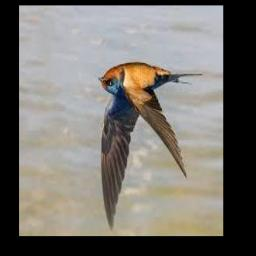Swallow: (97, 63, 203, 231)
